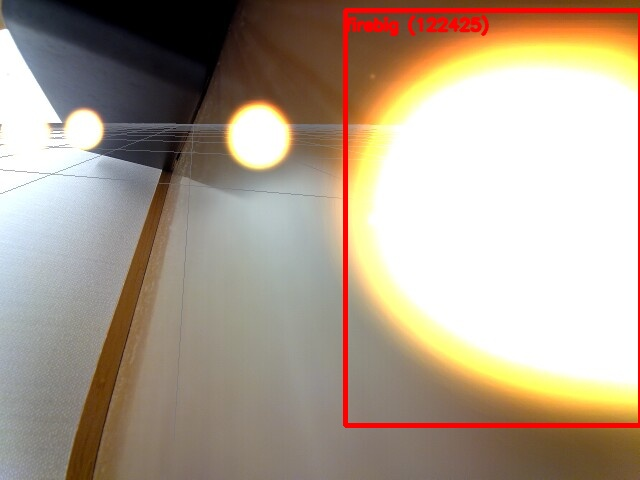firebig: (345, 10, 640, 425)
